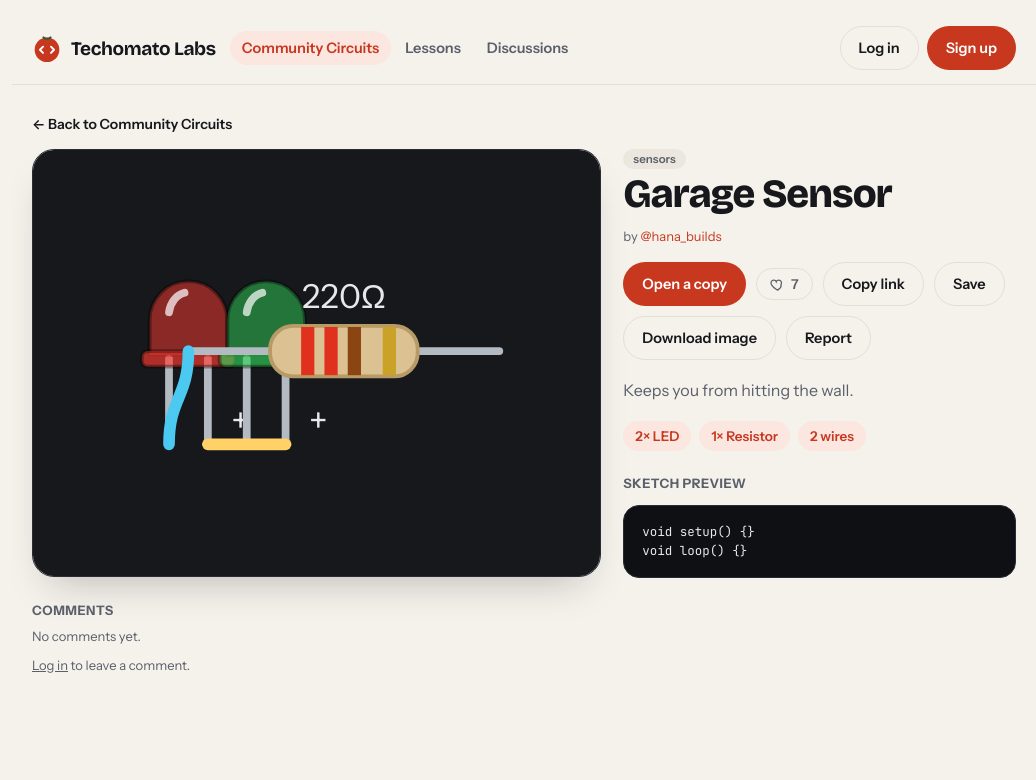
DetailPage › sends a signed-out visitor to log in before saving
The image size is (1036, 780).
Click the button "Save" at (969, 284), box [934,262,1005,306]
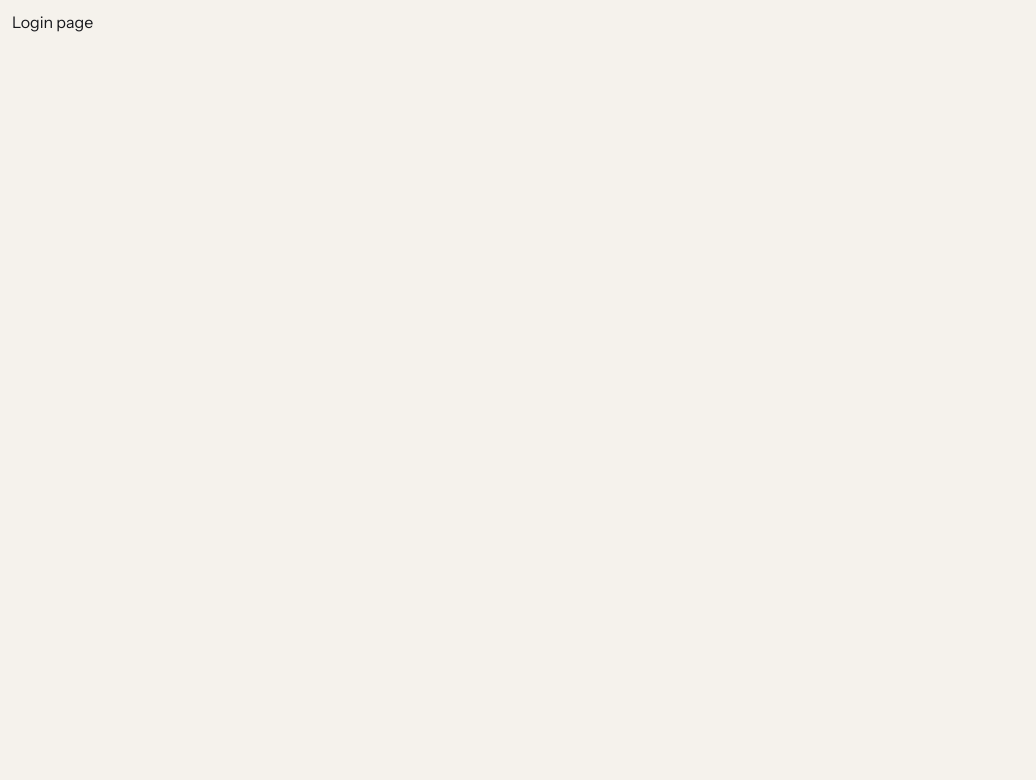
Expected: the text "Login page" is shown, [12,12,93,32]
